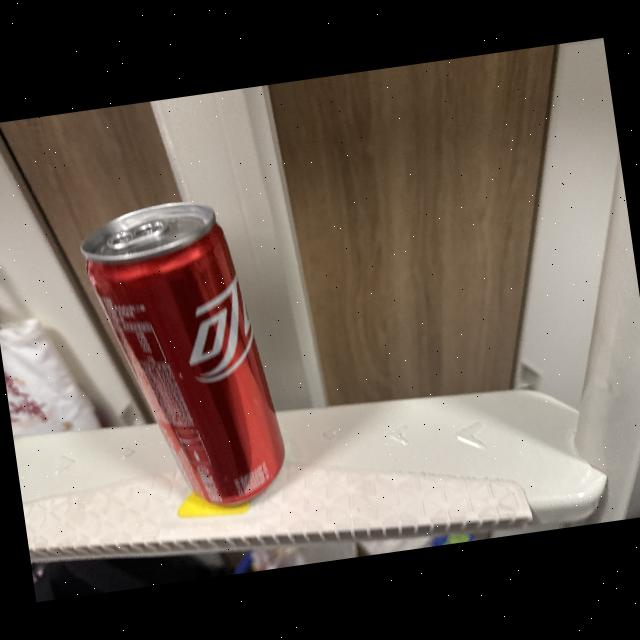Cola: (70, 184, 304, 528)
